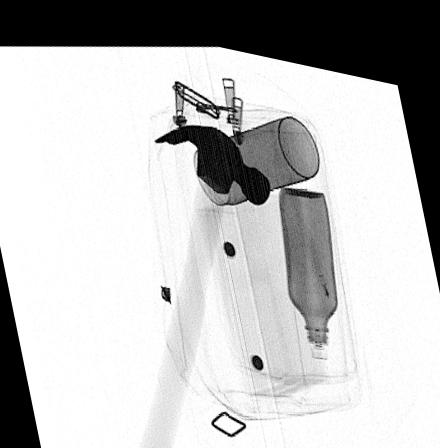Hammer: (134, 115, 270, 448)
